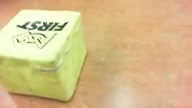cube: (1, 9, 88, 103)
